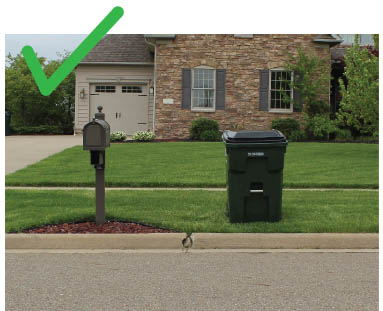TrashBin: (218, 129, 291, 223)
